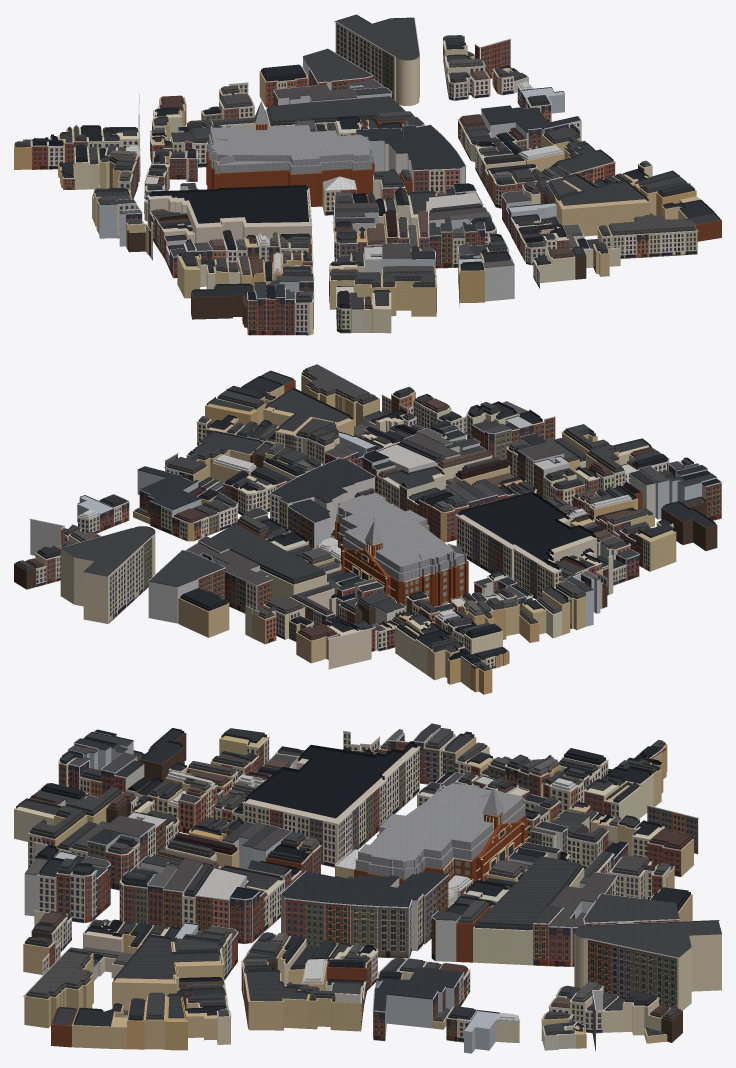
The picture shows the model from 3 angles, top to bottom: view 1: azimuth 30°, elevation 25°; view 2: azimuth 150°, elevation 25°; view 3: azimuth 270°, elevation 25°; orthographic projection. The views are drawn at different scales.
Parts seen in each view (by area): view 1: bldg_232914449_roof_b, bldg_498559415_roof_b, bldg_232914449, bldg_498559415, bldg_498238868_roof_b, bldg_498280772_roof, bldg_498620722, bldg_498239905_roof, bldg_498859666_facade0, bldg_498239905_facade2, bldg_232914449_roof_a, bldg_498620722_roof_b (+21 smaller); view 2: bldg_232914449_roof_b, bldg_498559415_roof_b, bldg_498239905, bldg_498238868_roof_b, bldg_498280772_roof, bldg_498239905_roof, bldg_498239905_facade2, bldg_498559415_facade3, bldg_498620722_roof_b, bldg_232914449, bldg_498238855_roof, bldg_497699850_roof (+29 smaller); view 3: bldg_232914449_roof_b, bldg_498559415_roof_b, bldg_498239905_facade0, bldg_498238868_roof_b, bldg_498280772_roof, bldg_498239905_roof, bldg_498239905, bldg_498620722_roof_b, bldg_498238868, bldg_498620722, bldg_498559415_facade2, bldg_498559415_facade3 (+62 smaller).
Part boxes in pixels (x1,y1,x2,y2): bldg_232914449_roof_b: [209, 125, 371, 166]; bldg_498559415_roof_b: [151, 185, 308, 223]; bldg_232914449: [206, 142, 374, 206]; bldg_498559415: [148, 189, 311, 243]; bldg_498238868_roof_b: [268, 96, 405, 122]; bldg_498280772_roof: [384, 125, 465, 170]; bldg_498620722: [557, 180, 650, 236]; bldg_498239905_roof: [336, 14, 419, 60]; bldg_498859666_facade0: [611, 230, 698, 258]; bldg_498239905_facade2: [334, 21, 394, 99]; bldg_232914449_roof_a: [207, 134, 373, 174]; bldg_498620722_roof_b: [560, 173, 646, 205]; bldg_232914449_roof_b: [337, 492, 462, 572]; bldg_498559415_roof_b: [460, 491, 593, 567]; bldg_498239905: [60, 533, 155, 623]; bldg_498238868_roof_b: [211, 523, 323, 581]; bldg_498280772_roof: [270, 459, 374, 503]; bldg_498239905_roof: [60, 526, 155, 576]; bldg_498239905_facade2: [107, 535, 153, 623]; bldg_498559415_facade3: [455, 515, 512, 577]; bldg_498620722_roof_b: [267, 387, 350, 431]; bldg_232914449: [335, 517, 468, 606]; bldg_498238855_roof: [149, 550, 224, 586]; bldg_497699850_roof: [138, 466, 201, 509]; bldg_232914449_roof_b: [358, 782, 523, 869]; bldg_498559415_roof_b: [247, 741, 414, 818]; bldg_498239905_facade0: [586, 938, 679, 1007]; bldg_498238868_roof_b: [477, 856, 580, 926]; bldg_498280772_roof: [281, 871, 422, 907]; bldg_498239905_roof: [574, 920, 721, 957]; bldg_498239905: [574, 933, 721, 1010]; bldg_498620722_roof_b: [116, 934, 219, 979]; bldg_498238868: [473, 867, 584, 965]; bldg_498620722: [112, 941, 222, 1010]; bldg_498559415_facade2: [241, 802, 338, 867]; bldg_498559415_facade3: [337, 779, 387, 861].
Size of what is drawn, in the model's own units: 281 by 41.67 by 284.
Materials: 140 (61 with a texture image).
